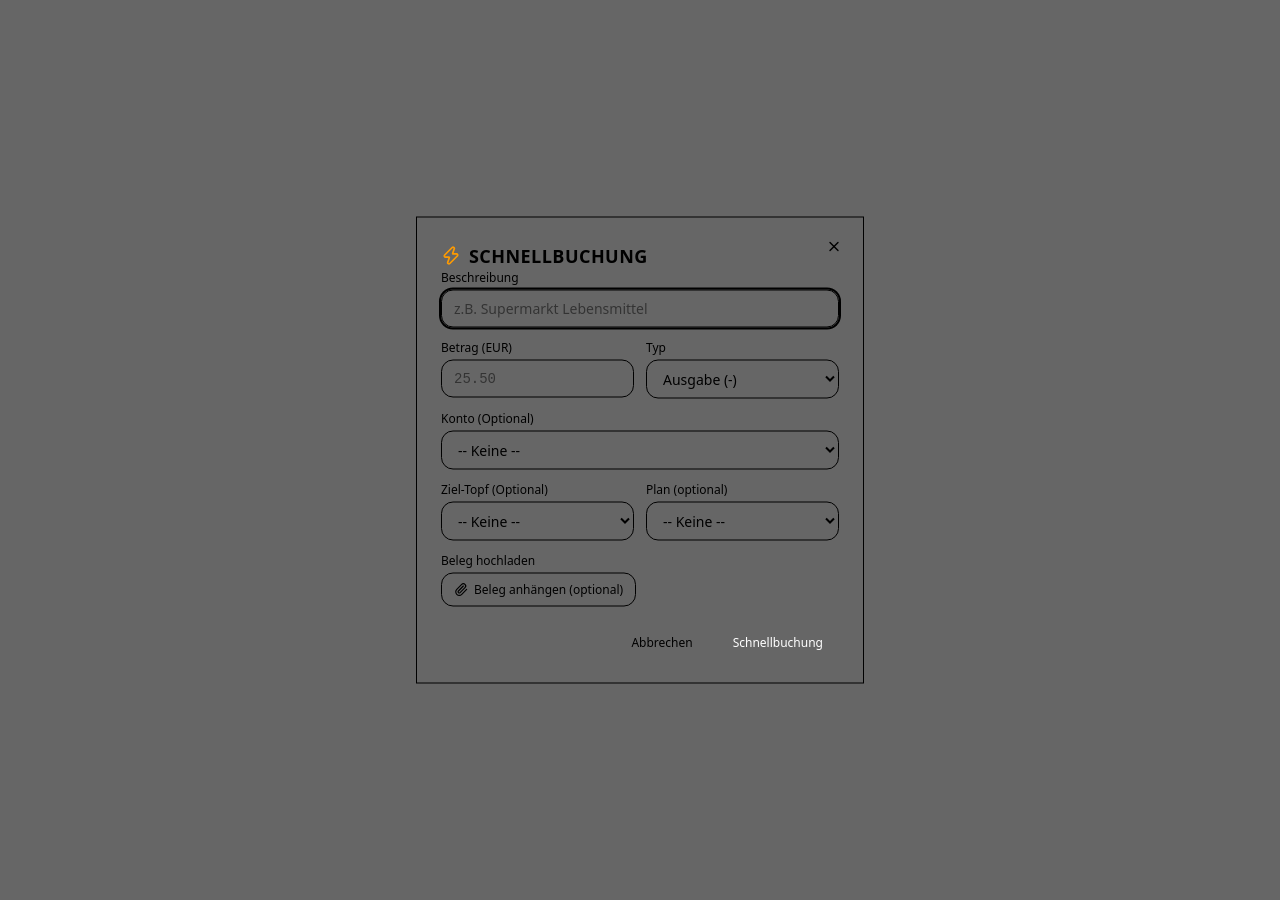
Scenario: QuickAddModal › shows the failure when booking the transaction fails and keeps the dialog open
Type "Coffee" into the field labelled "Beschreibung" at (640, 308), box [441,290,839,328]
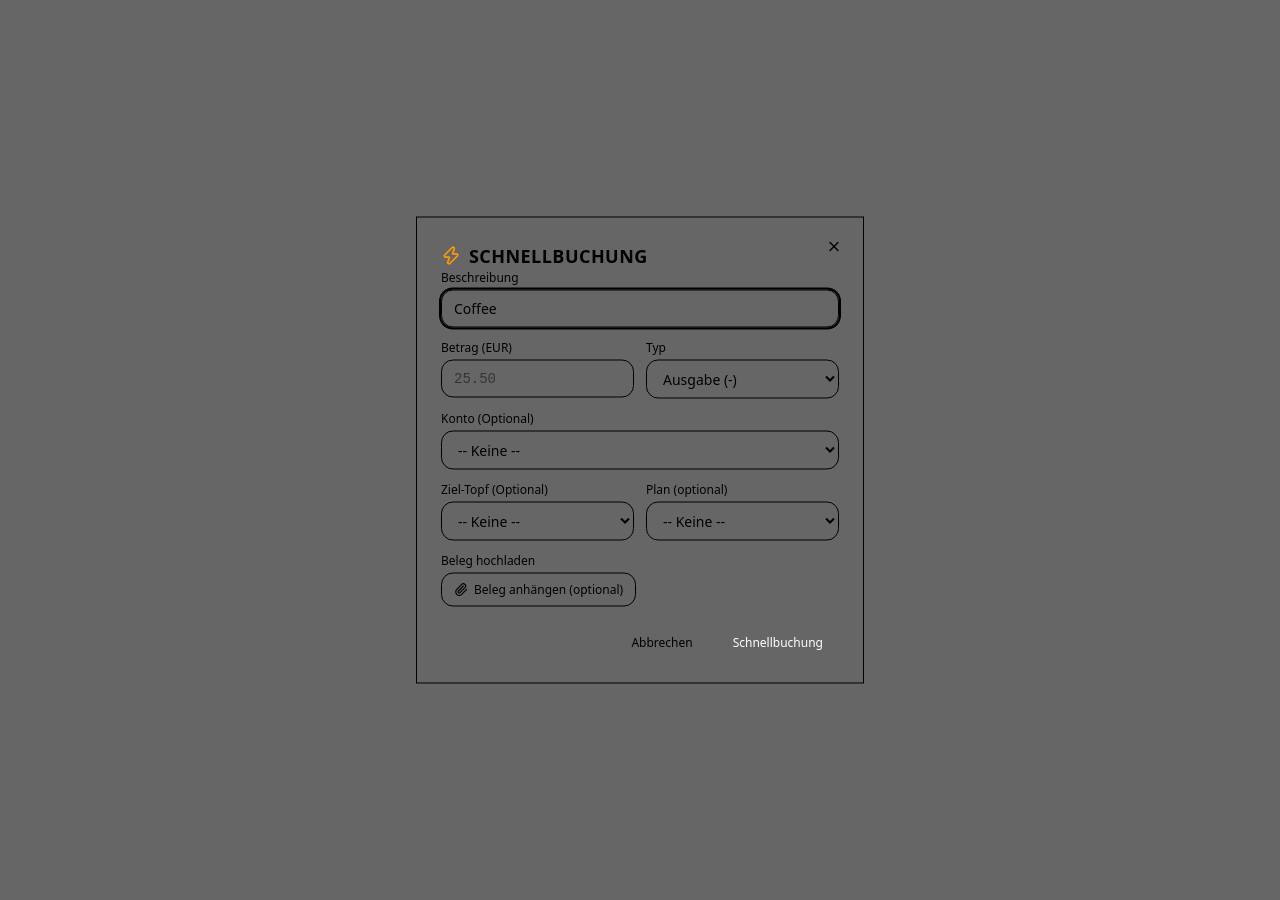
Type "4.5" into the number field labelled "Betrag (EUR)" at (538, 378), box [441,360,634,398]
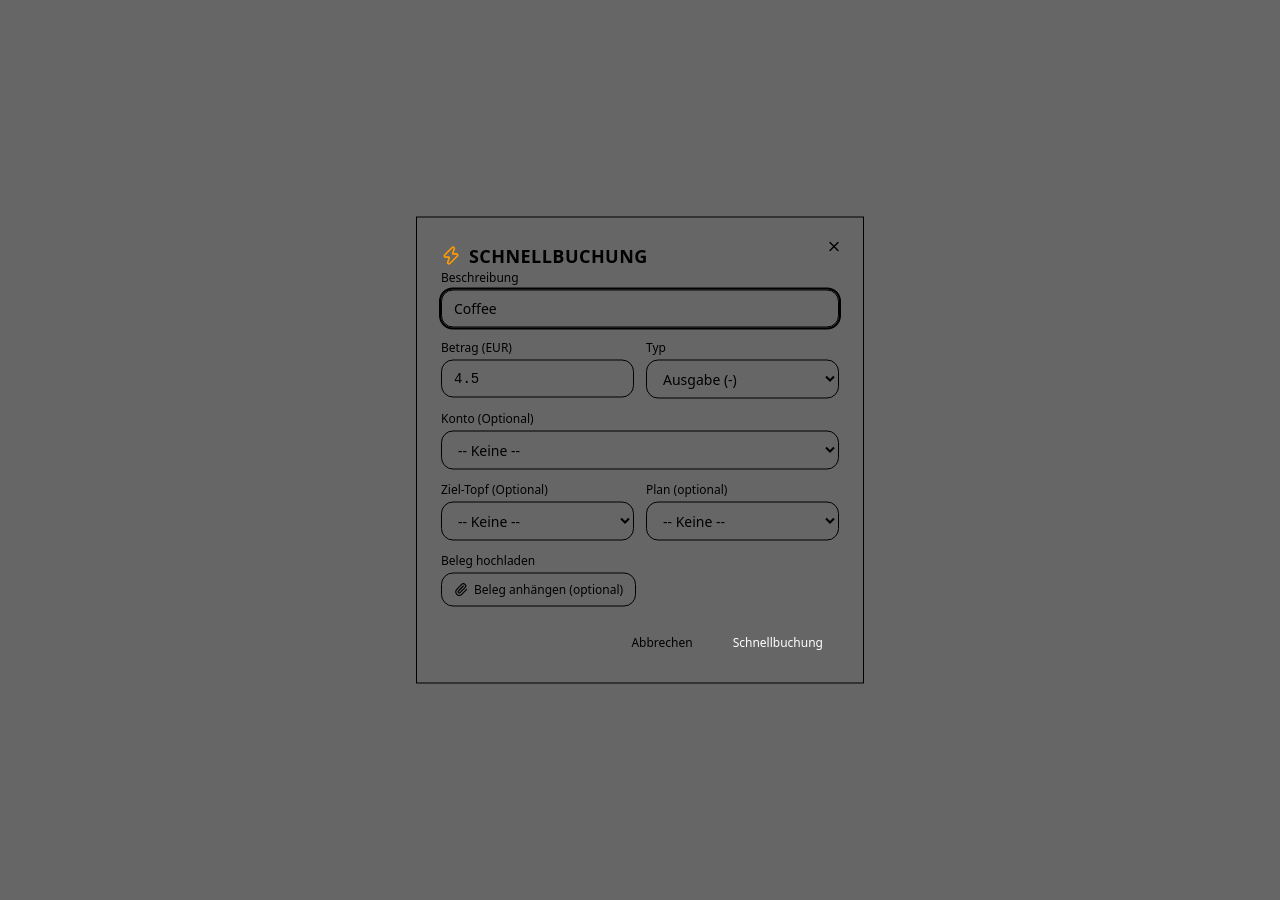
Submit the form labelled "Betrag (EUR)", box [441,270,839,658]
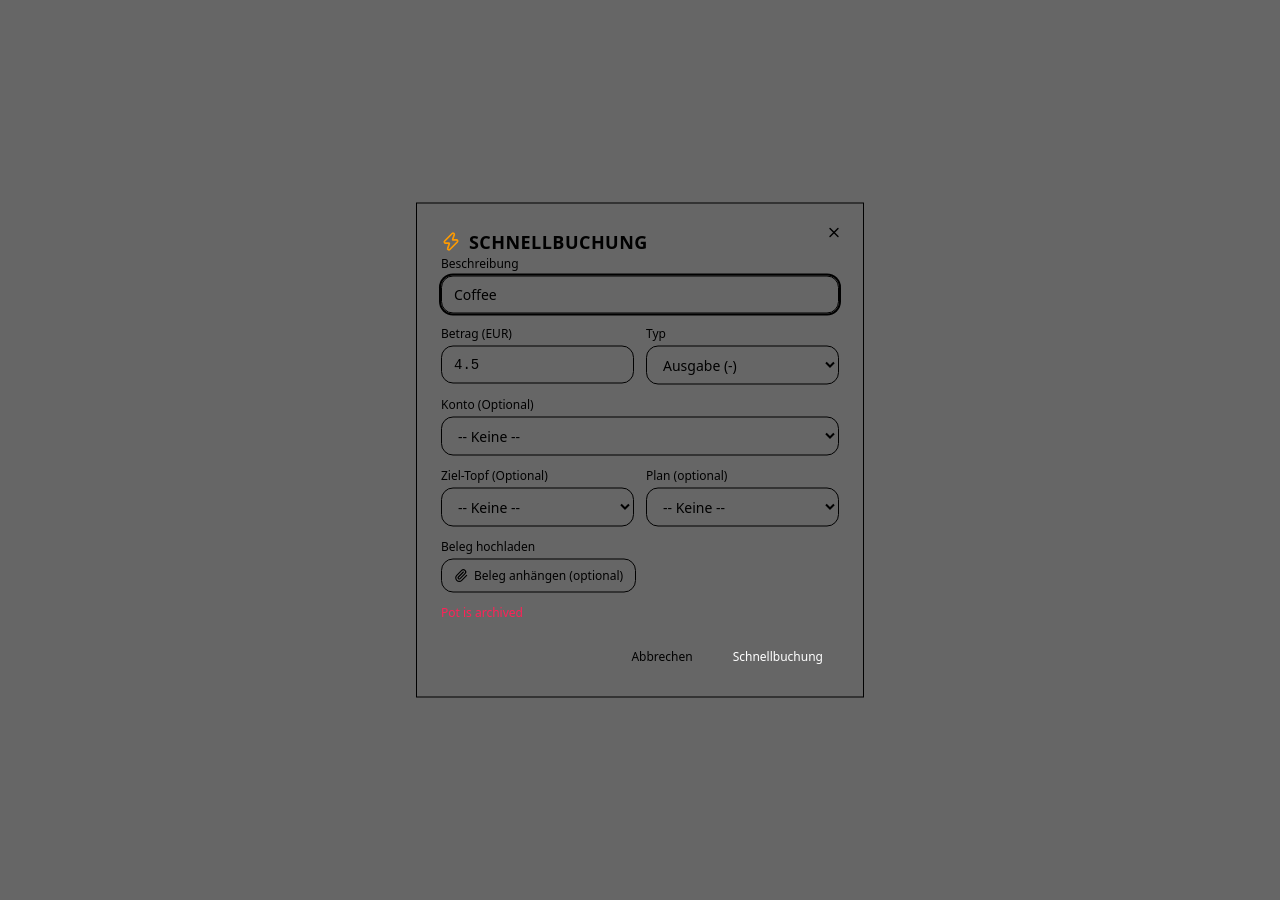
Expected: the message reads "Pot is archived", [441,604,523,620]
